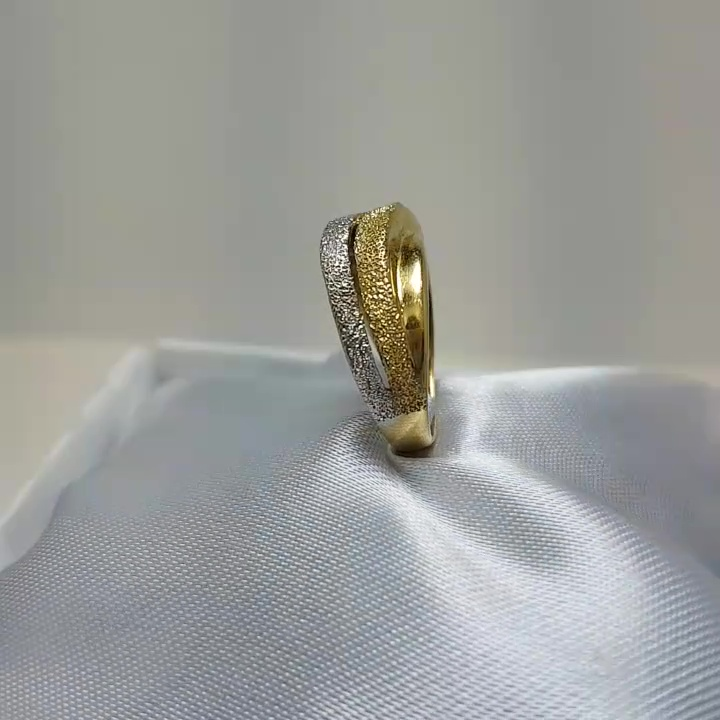Ring 5: (287, 193, 463, 475)
